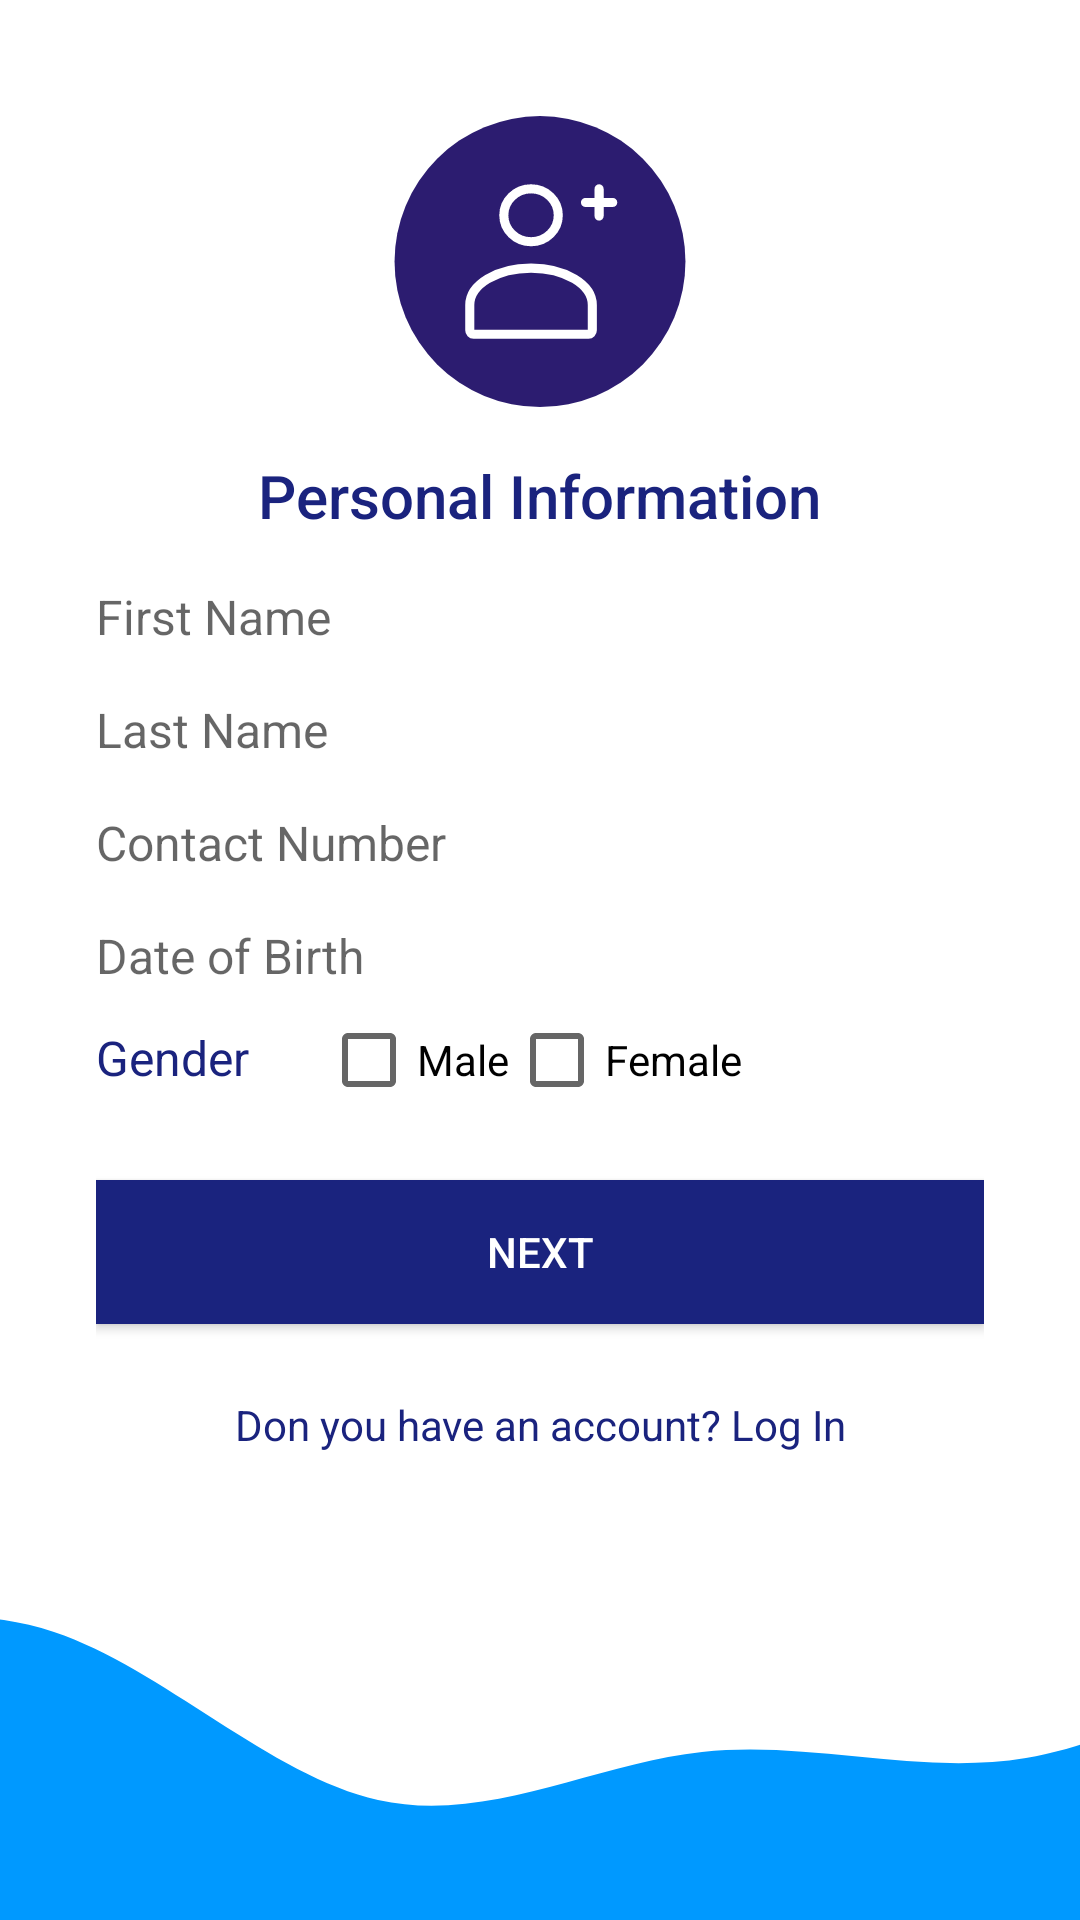

Named icons in this screenshot (1080x1920) and their centers, point (x, y):
user: point (540, 261)
